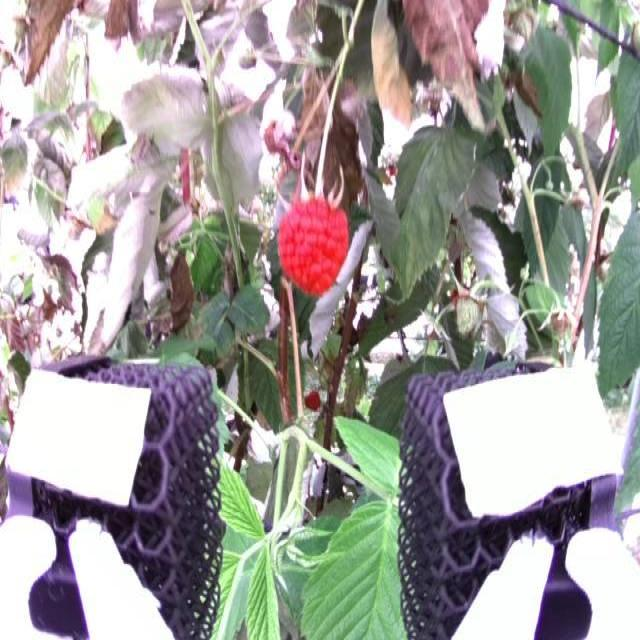Riped berries: (278, 180, 350, 295)
